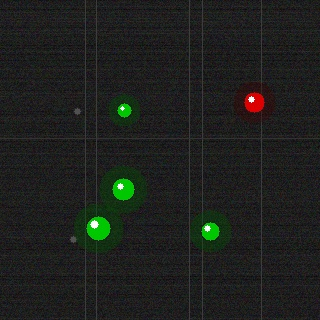green_normal: (84, 214, 112, 242), (110, 176, 136, 202), (199, 220, 221, 242), (115, 101, 133, 119)
red_fault: (242, 90, 266, 114)
